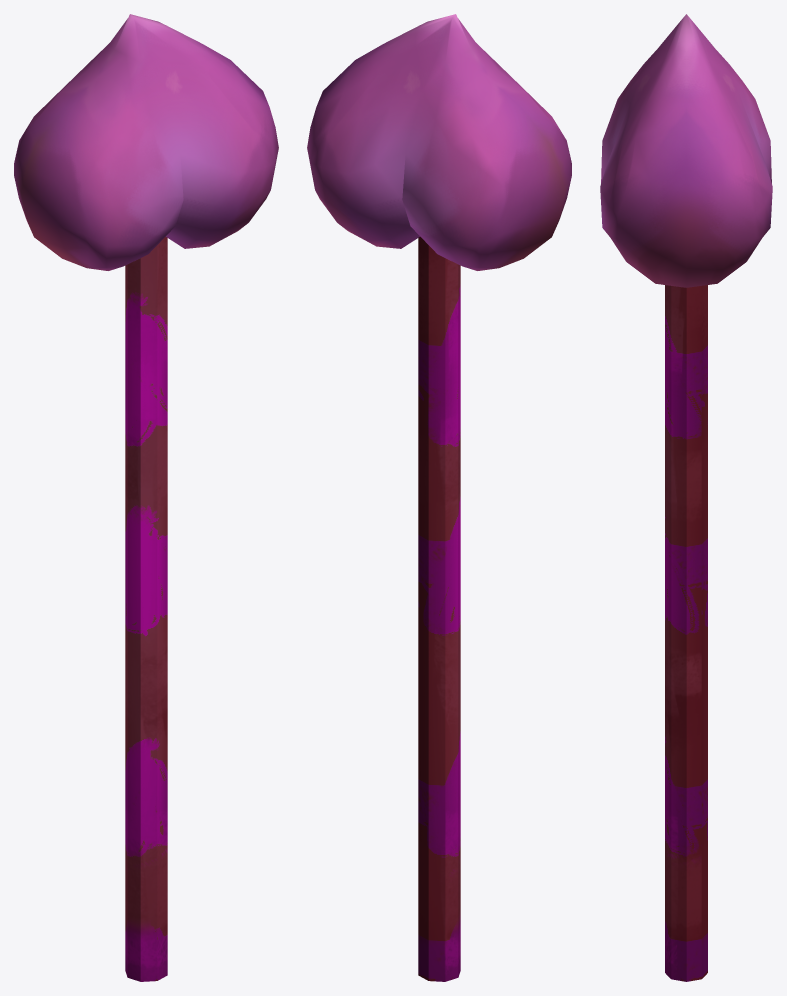
File: spear_lv3.fbx
The picture shows the model from 3 angles, left to right: view 1: azimuth 30°, elevation 25°; view 2: azimuth 150°, elevation 25°; view 3: azimuth 270°, elevation 25°; orthographic projection.
Parts seen in each view (by area): view 1: pCube1, pCylinder1; view 2: pCube1, pCylinder1; view 3: pCube1, pCylinder1.
Part boxes in pixels (x1,y1,x2,y2): pCube1: (14,14,278,270); pCylinder1: (125,236,167,981); pCube1: (307,14,571,270); pCylinder1: (418,236,460,981); pCube1: (600,14,772,287); pCylinder1: (665,285,707,981).
Size of the model in its own units: 0.5307 by 1.94 by 0.3197.
Materials: 1 (1 with a texture image).
